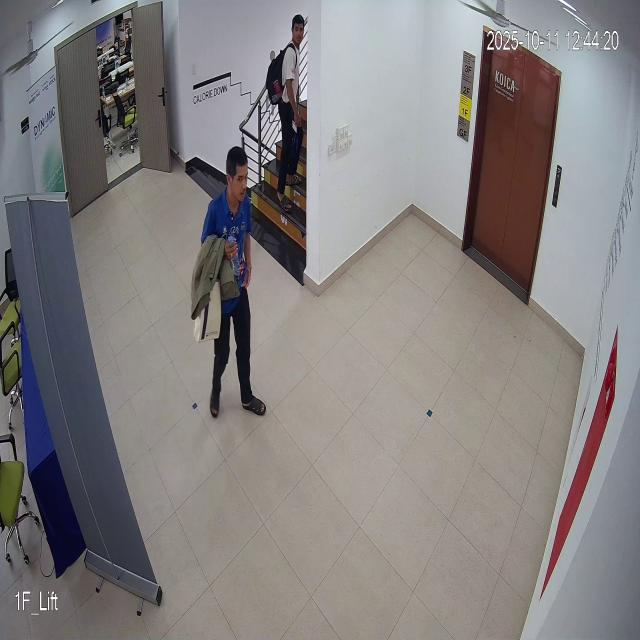face: (225, 141, 252, 203)
